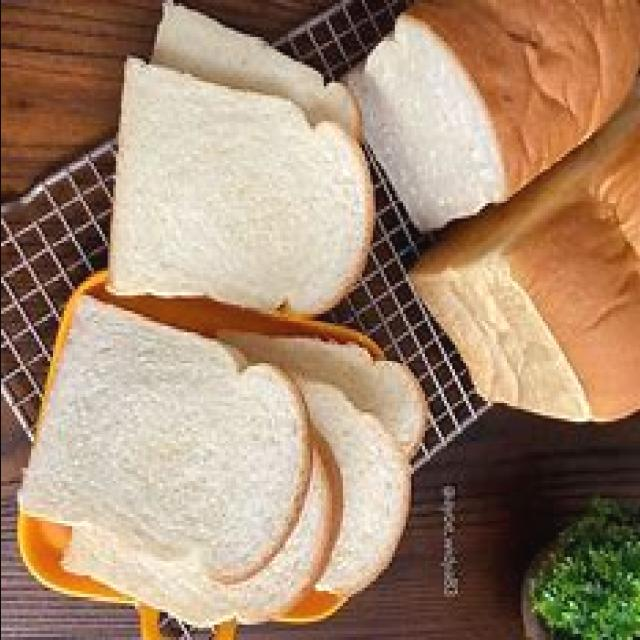roti tawar: (16, 295, 298, 566), (104, 55, 372, 317)
